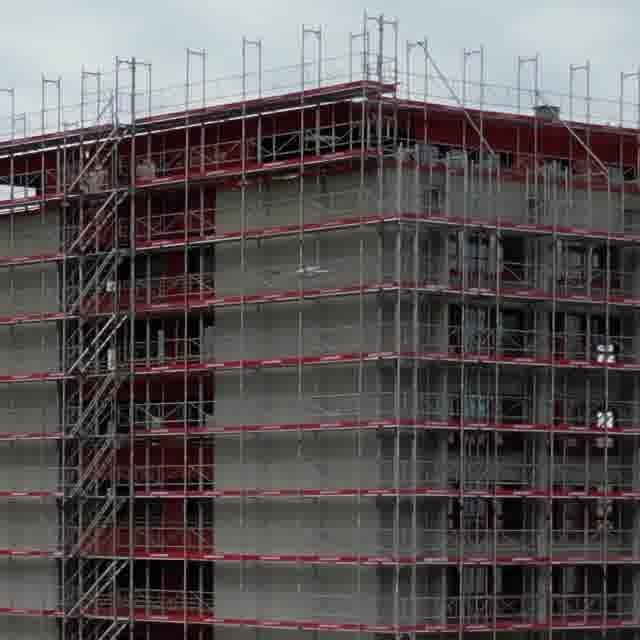Drohne: (296, 264, 327, 277)
